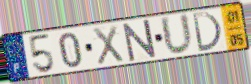0: (57, 31, 85, 70)
5: (26, 32, 57, 75)
D: (190, 11, 224, 53)
N: (121, 18, 158, 64)
U: (158, 12, 195, 58)
X: (91, 24, 126, 67)
